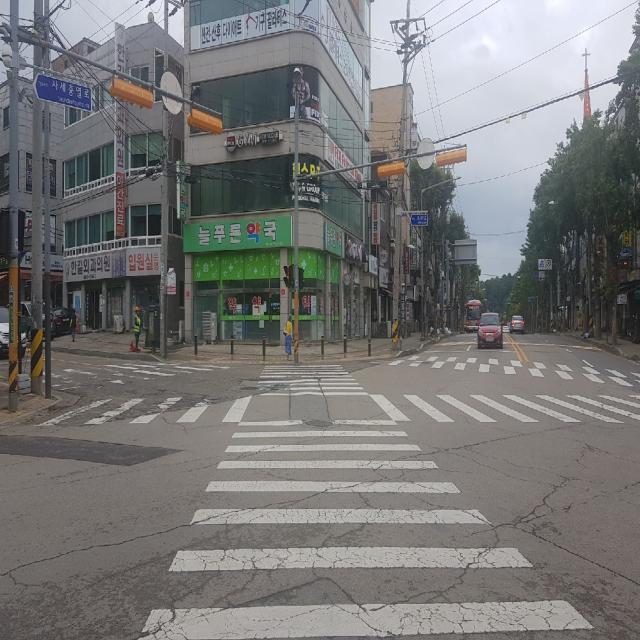횡단보도: (142, 363, 594, 639)
